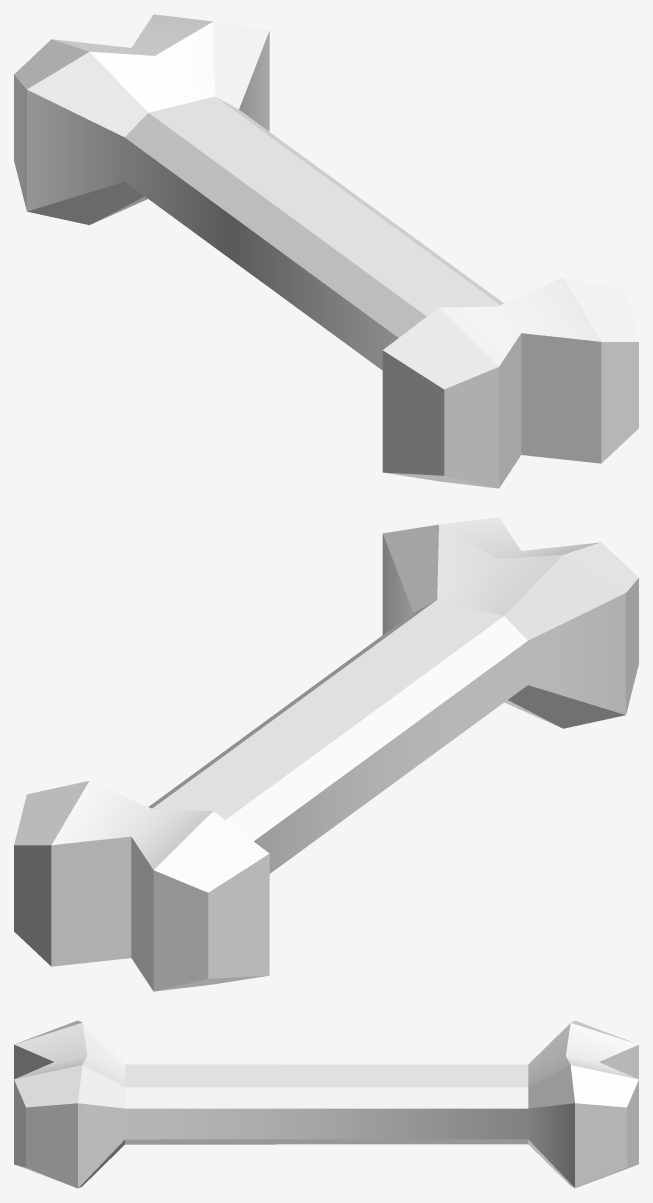
File: Bone.FBX
3 views of the same model, one above another, from view 1: azimuth 30°, elevation 25°; view 2: azimuth 150°, elevation 25°; view 3: azimuth 270°, elevation 25° (orthographic). The views are drawn at different scales.
Parts seen in each view (by area): view 1: Bone; view 2: Bone; view 3: Bone.
Part boxes in pixels (bbox=[...]): Bone: bbox=[14, 14, 638, 488]; Bone: bbox=[14, 517, 638, 991]; Bone: bbox=[14, 1020, 638, 1188].
Bounding box in the file's own units: 0.1856 × 0.1268 × 0.5915.
